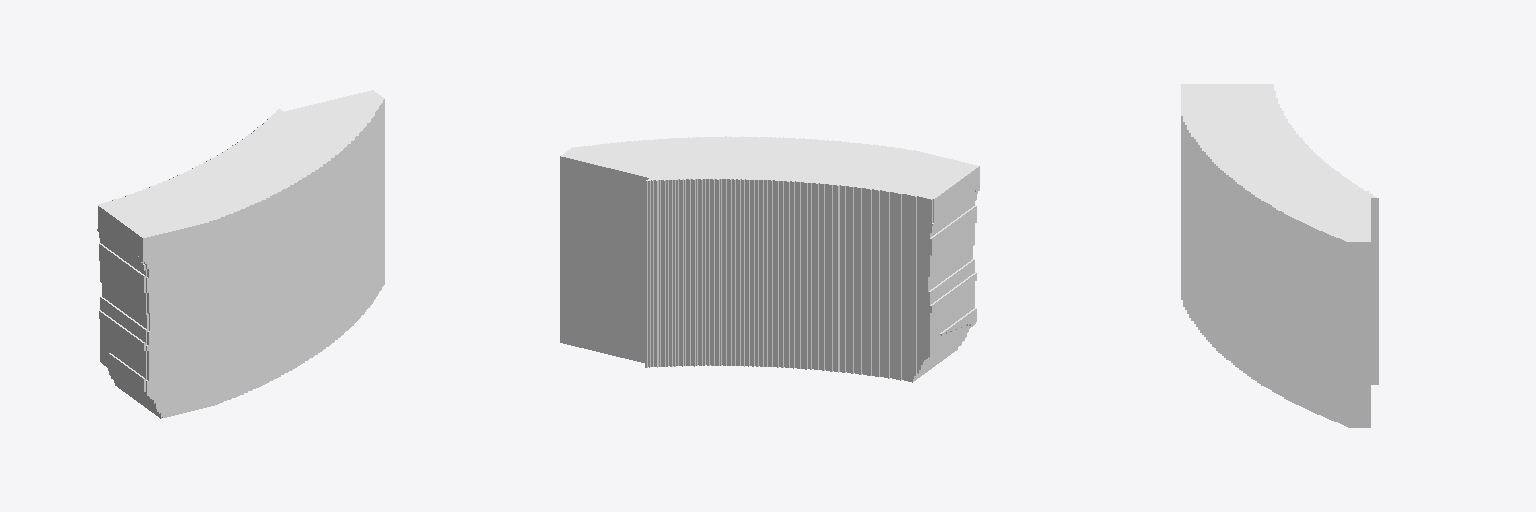
File: base_with_flag_elements-7.obj
3 views of the same model, side by side, from view 1: azimuth 30°, elevation 25°; view 2: azimuth 150°, elevation 25°; view 3: azimuth 270°, elevation 25° (orthographic).
Parts seen in each view (by area): view 1: object 1; view 2: object 1; view 3: object 1.
Boxes of the visible parts, x1,y1,x2,y2 form: object 1: [97, 90, 384, 418]; object 1: [560, 136, 979, 382]; object 1: [1181, 84, 1378, 427].
Bounding box in the file's own units: 18.2 × 10 × 9.6.